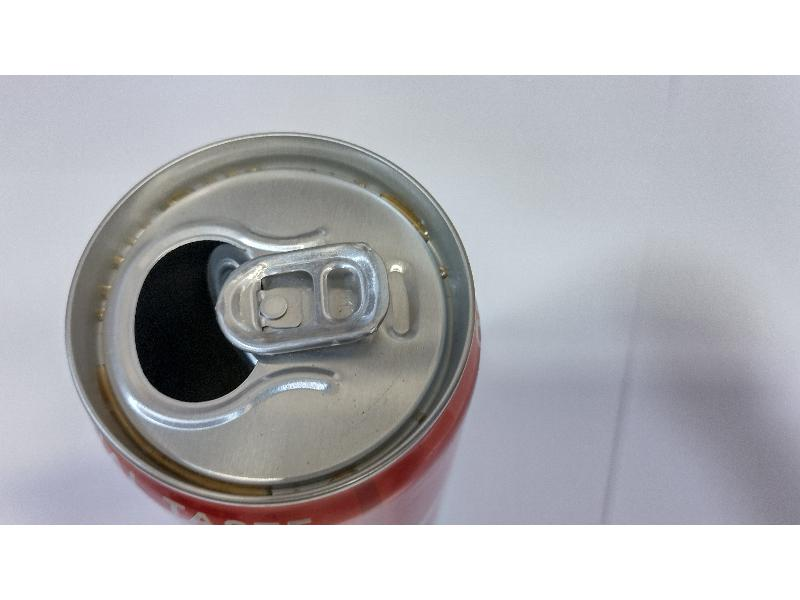can: (56, 124, 492, 522)
